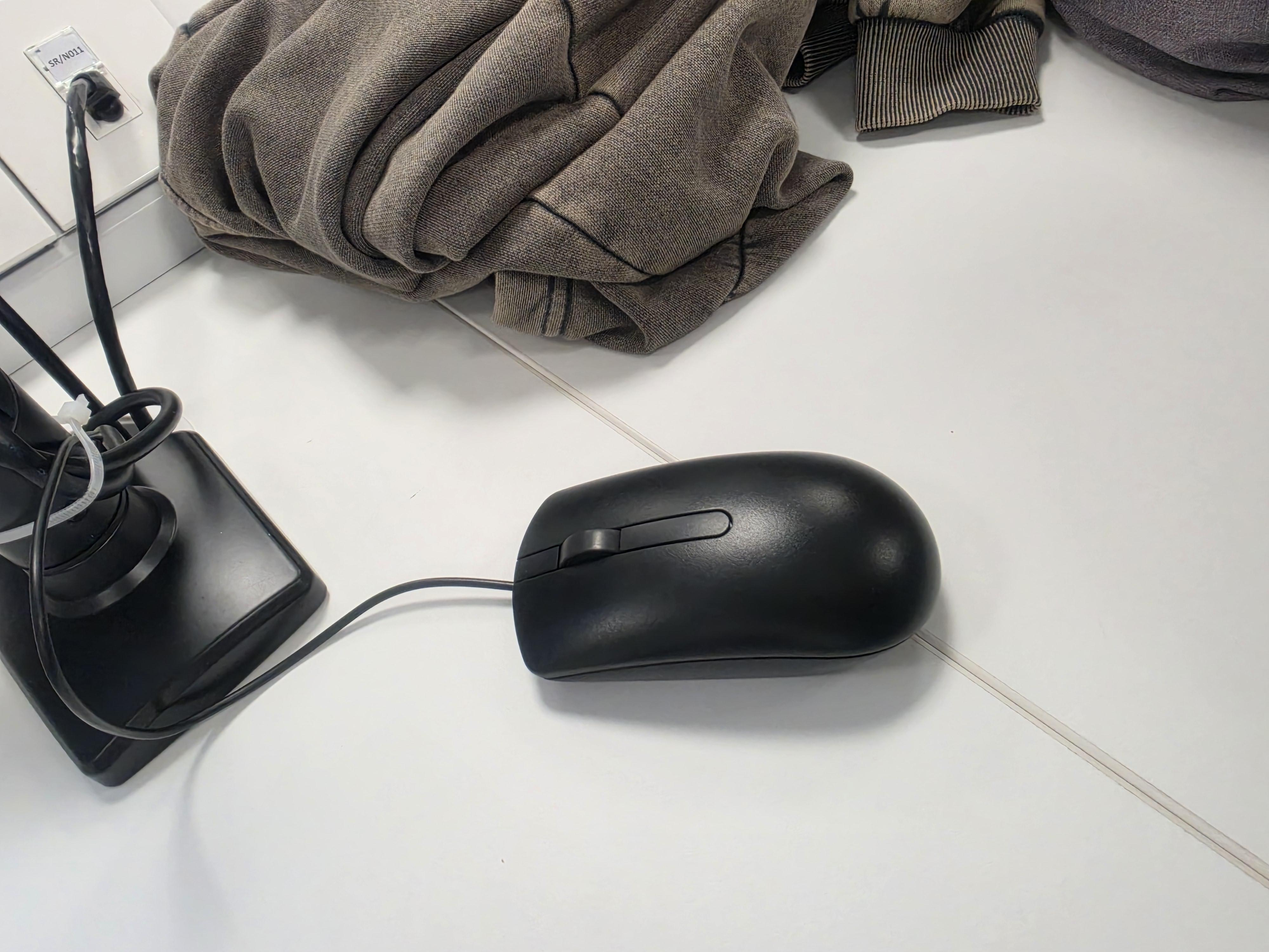mouse: (513, 451, 943, 682)
